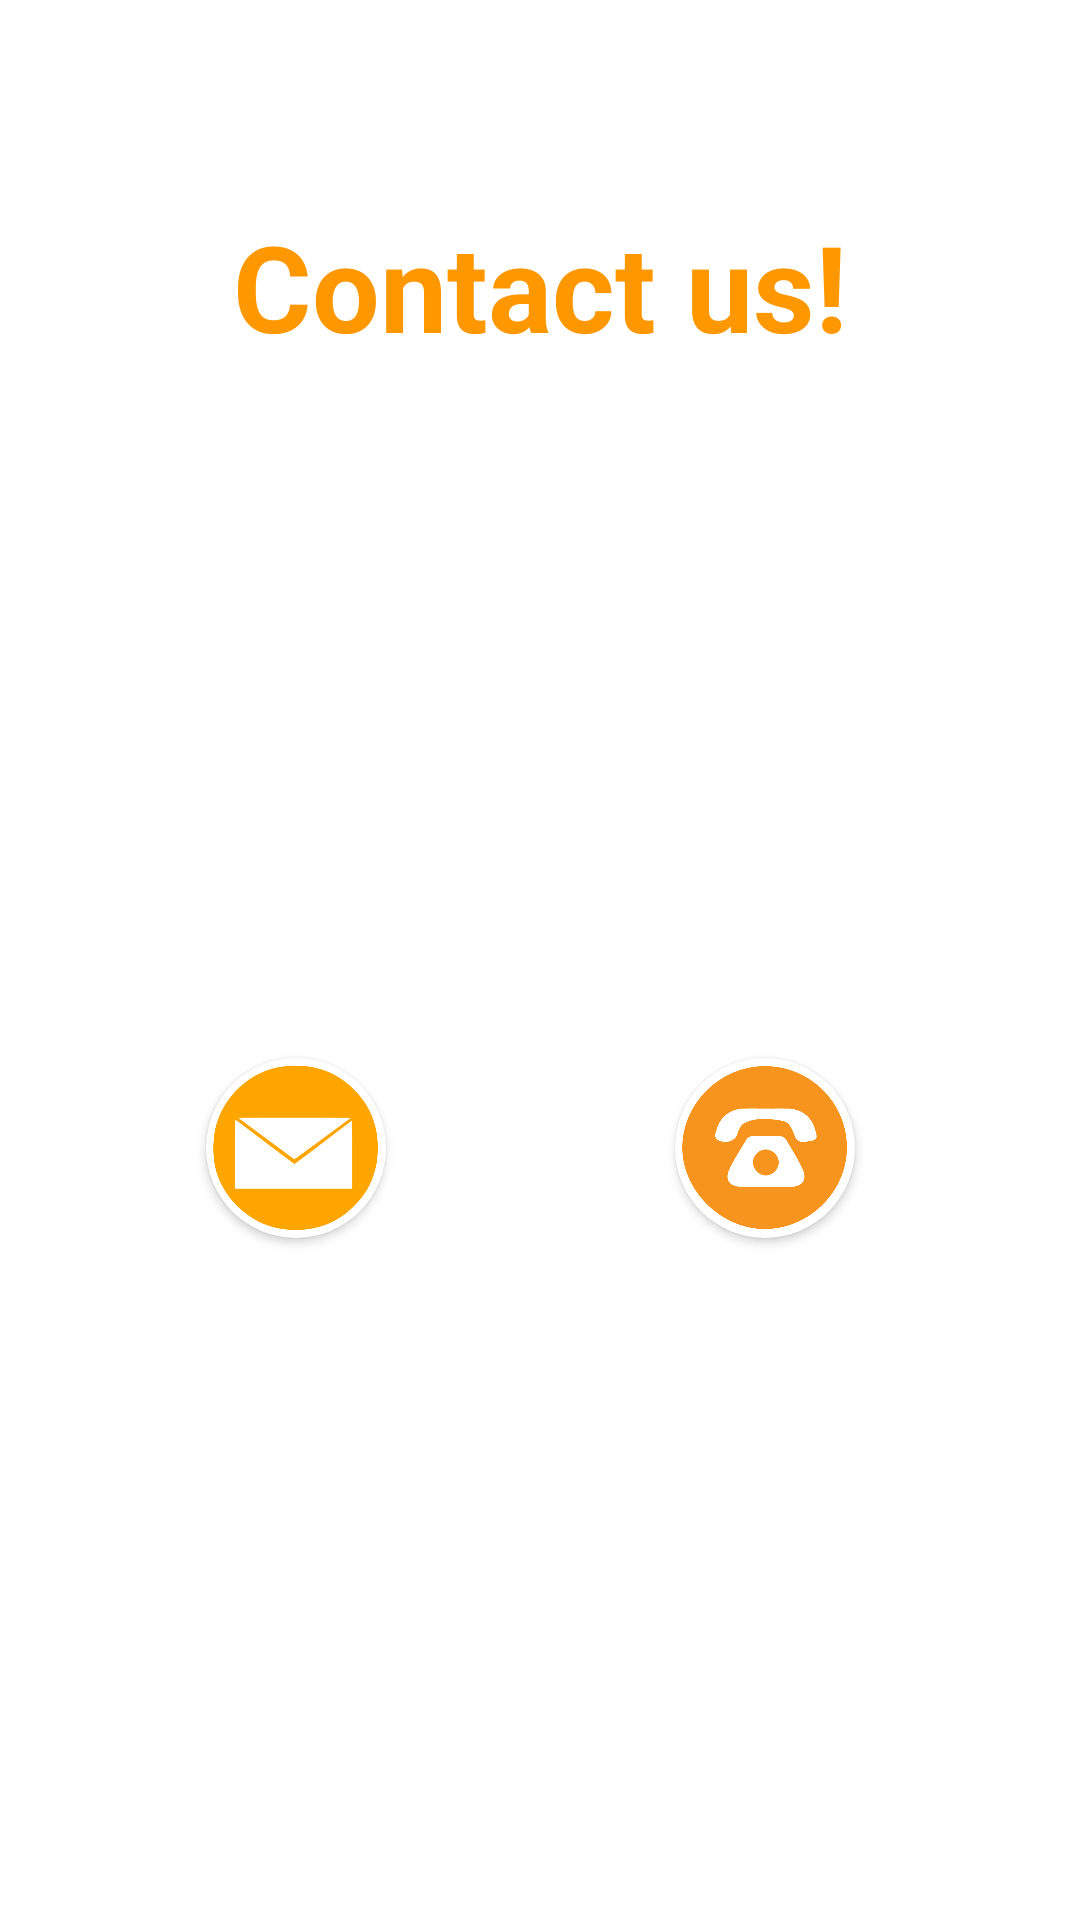

Icon bounding boxes for this 1080 × 1920 phone screenshot, format (x1, y1, x2, y2):
email: (213, 1066, 378, 1230)
phone: (682, 1066, 847, 1229)
